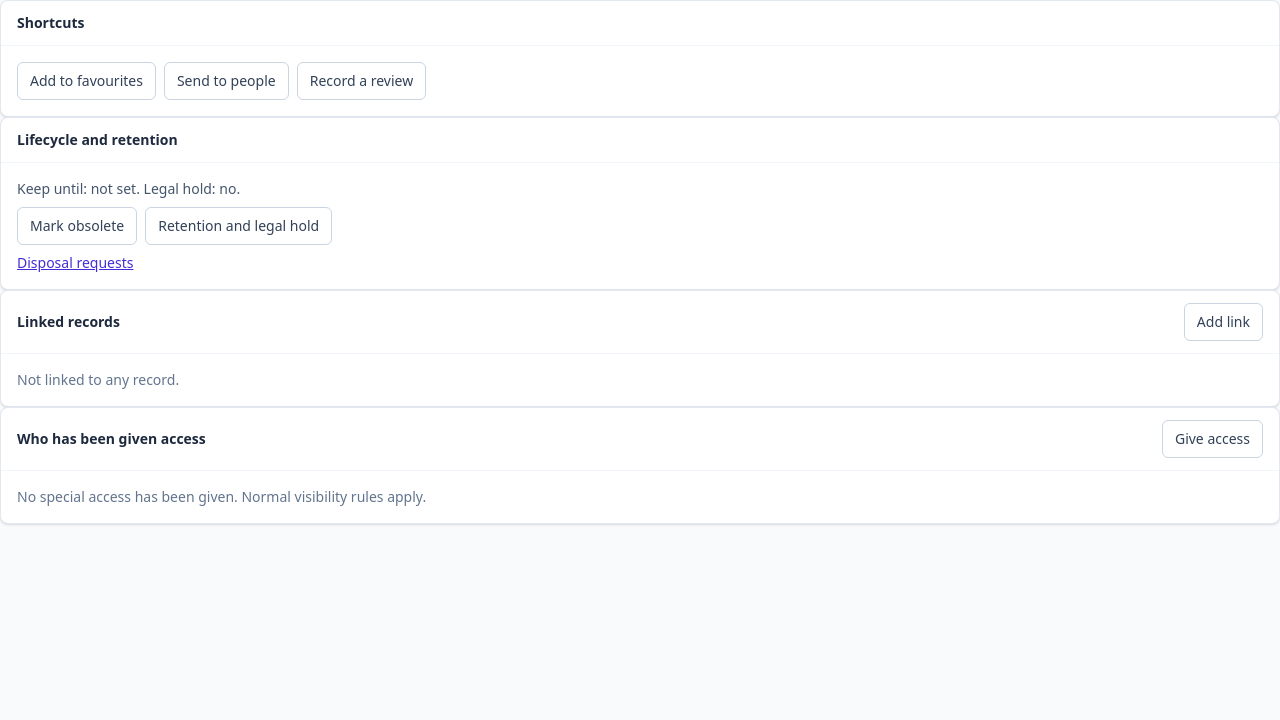
Test: DocumentTools: lifecycle › marks obsolete with a reason and replacement; refusal is shown
The width and height of the screenshot is (1280, 720).
Click the button "Mark obsolete" at (77, 226), box [17,207,137,245]
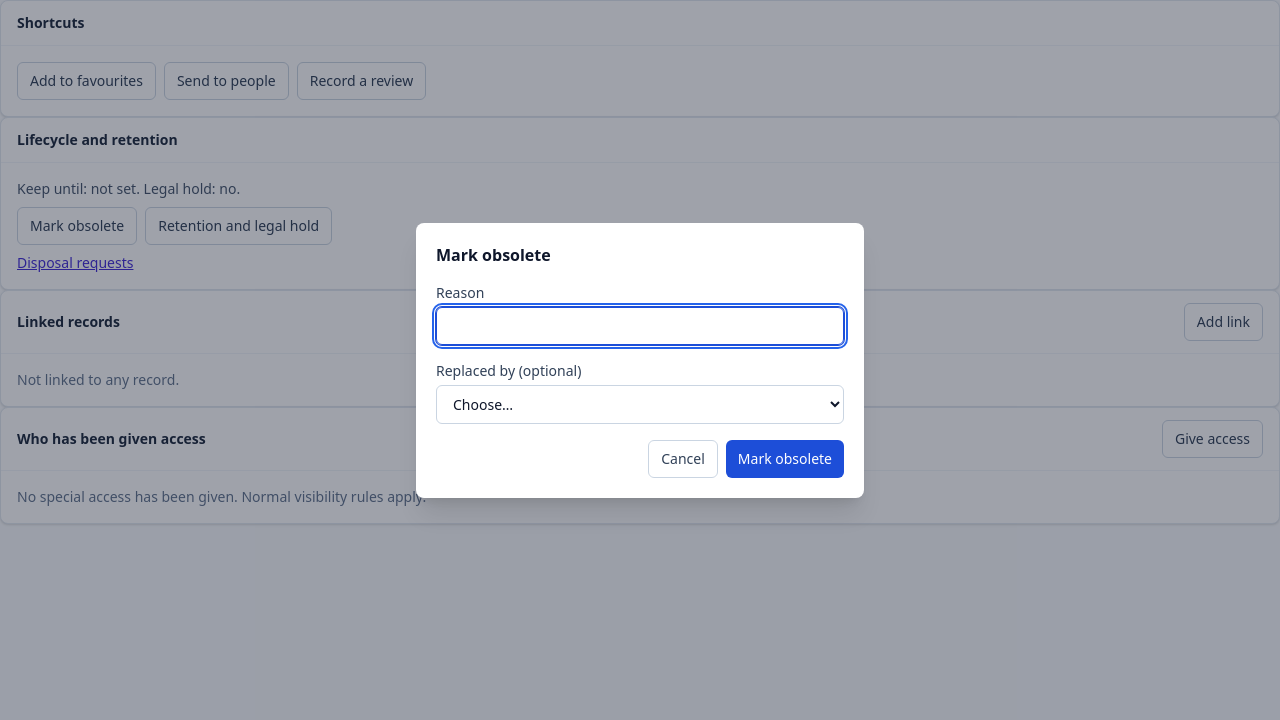
Click the button "Mark obsolete" at (785, 458), box [726,440,844,478]
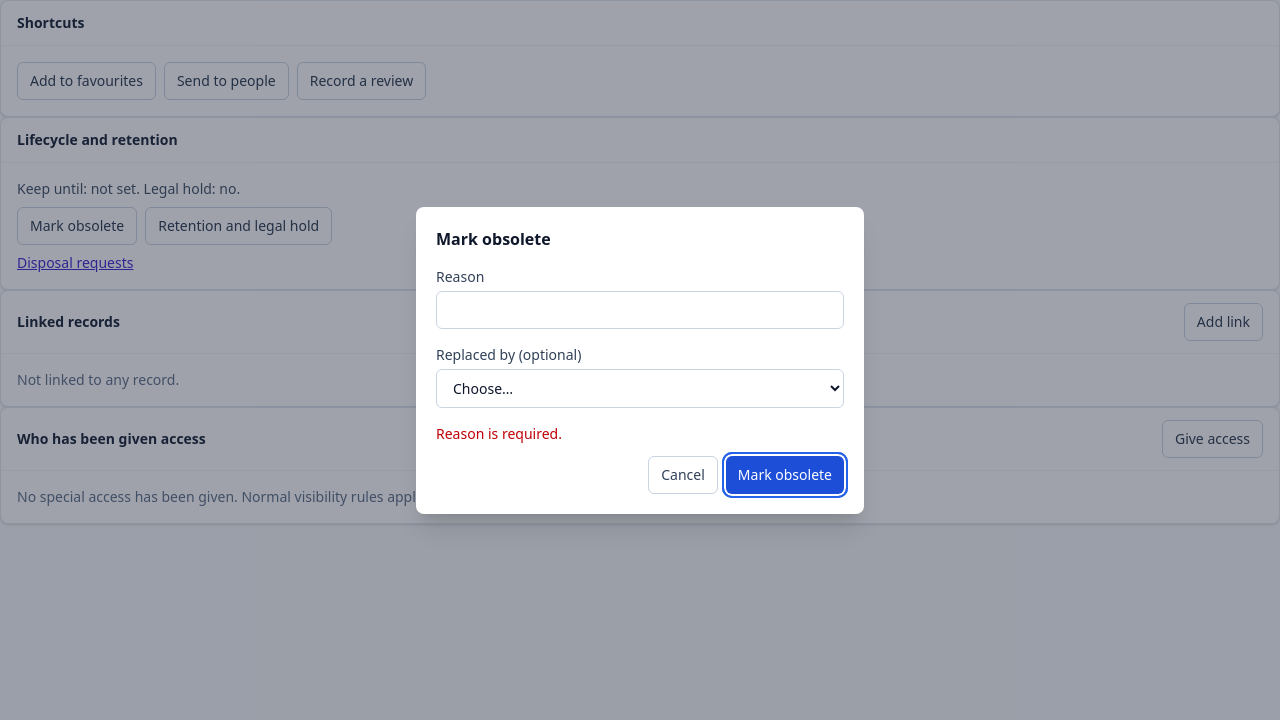
Expected: the text "Reason is required." is shown, [436,424,562,442]
Type "Superseded" into the field labelled "Reason" at (640, 310), box [436,290,844,328]
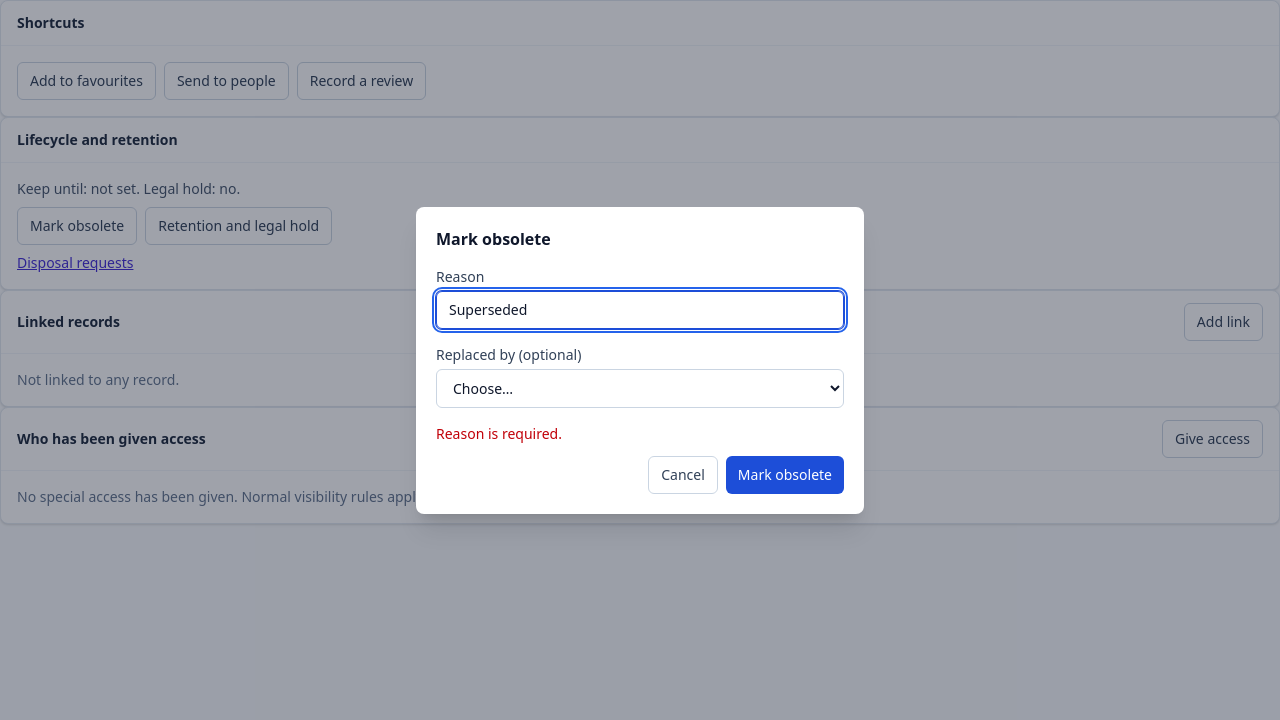
Select "POL-0002 — New policy" in the dropdown labelled "Replaced by (optional)" at (640, 388), box [436,368,844,408]
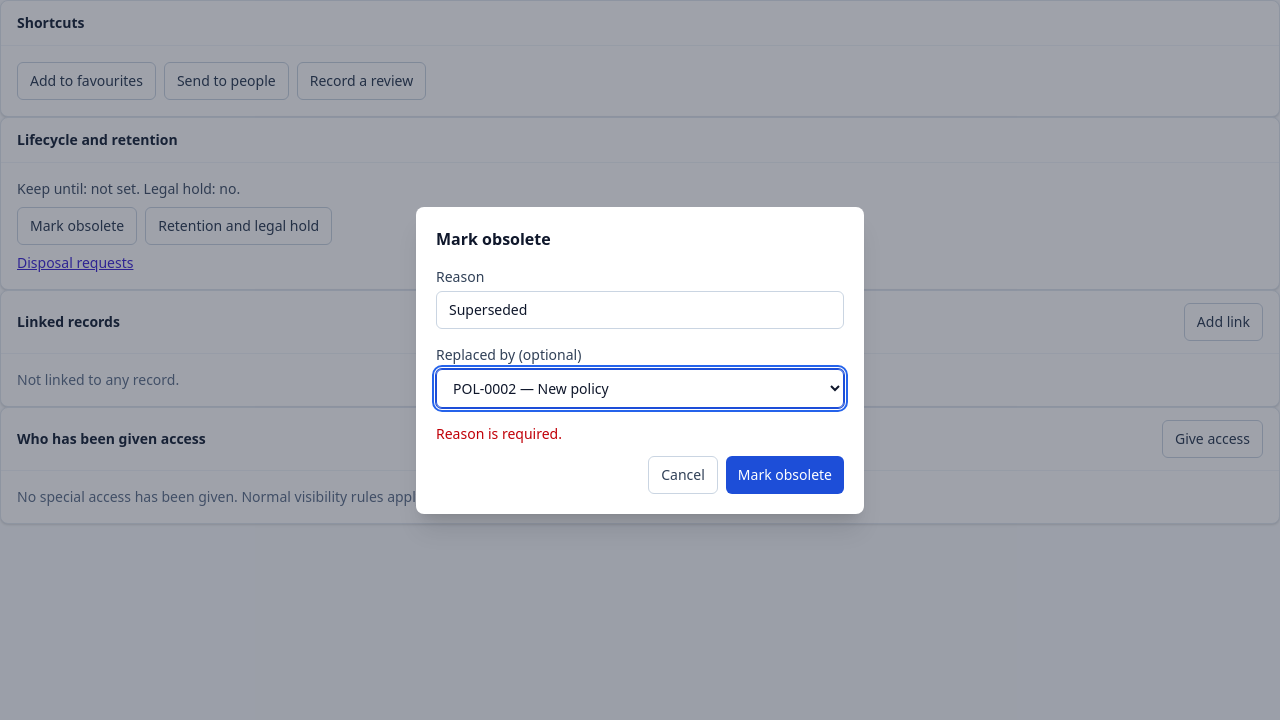
Click the button "Mark obsolete" at (785, 474), box [726,456,844,494]
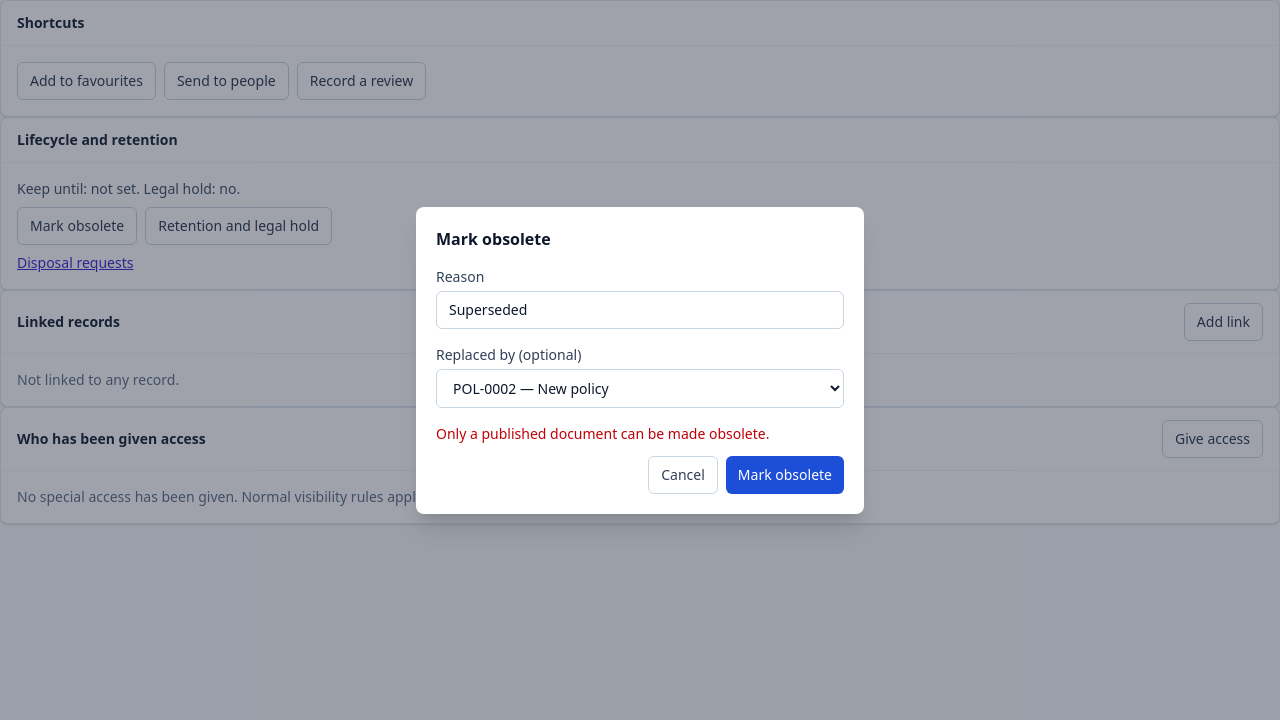
Expected: the text "Only a published document can be made obsolete." is shown, [436,424,769,442]
